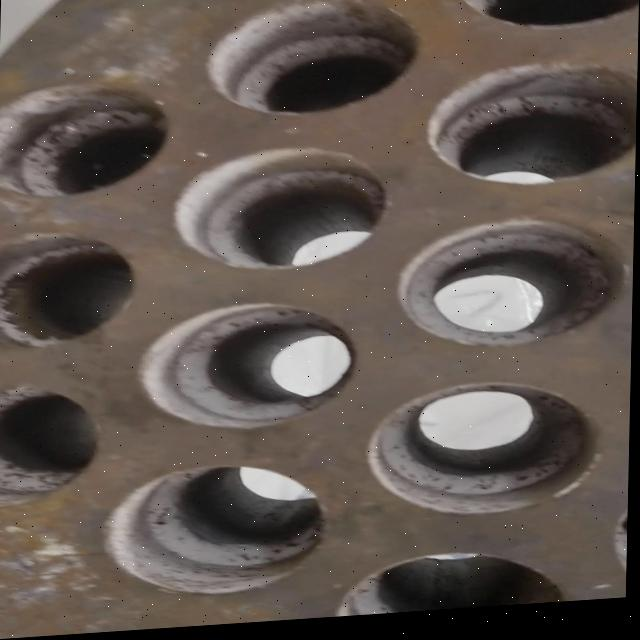Hole: (368, 384, 606, 527), (396, 220, 631, 360), (105, 464, 332, 603), (140, 303, 360, 439), (173, 145, 391, 279), (425, 65, 638, 198), (206, 0, 422, 125), (0, 80, 174, 202), (0, 227, 140, 351), (336, 554, 577, 622), (0, 381, 102, 508), (451, 0, 636, 41)
